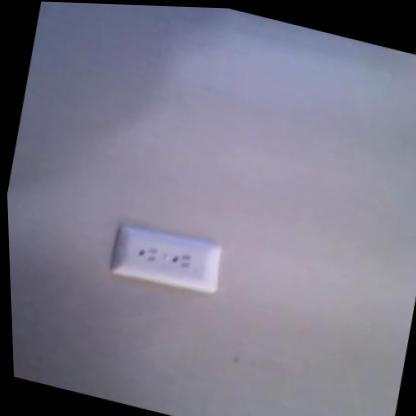OUTLET: (104, 220, 226, 296)
